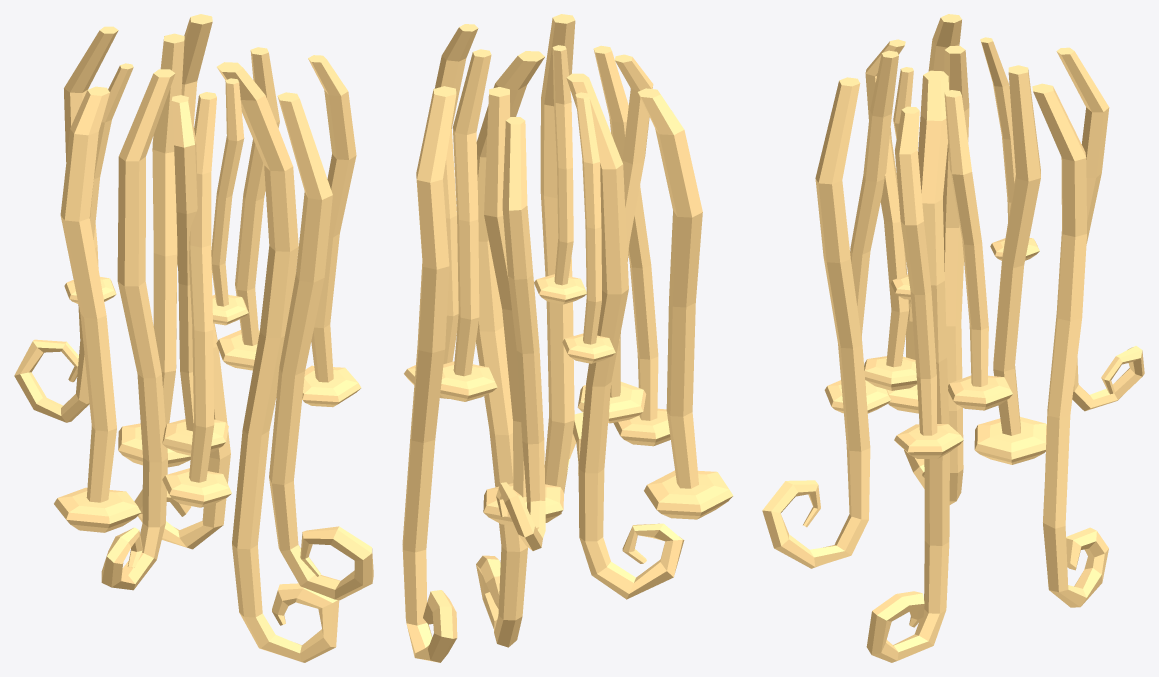
The model's file is Underground_Mushroom_Enoki.fbx.
3 views of the same model, side by side, from view 1: azimuth 30°, elevation 25°; view 2: azimuth 150°, elevation 25°; view 3: azimuth 270°, elevation 25° (orthographic). The views are drawn at different scales.
Visible parts, largest first — view 1: Menoki_underground; view 2: Menoki_underground; view 3: Menoki_underground.
Boxes of the visible parts, x1=… form: Menoki_underground: x1=14, y1=14, x2=373, y2=662; Menoki_underground: x1=402, y1=14, x2=733, y2=662; Menoki_underground: x1=762, y1=14, x2=1144, y2=662.
Bounding box in the file's own units: 163 × 306 × 188.
